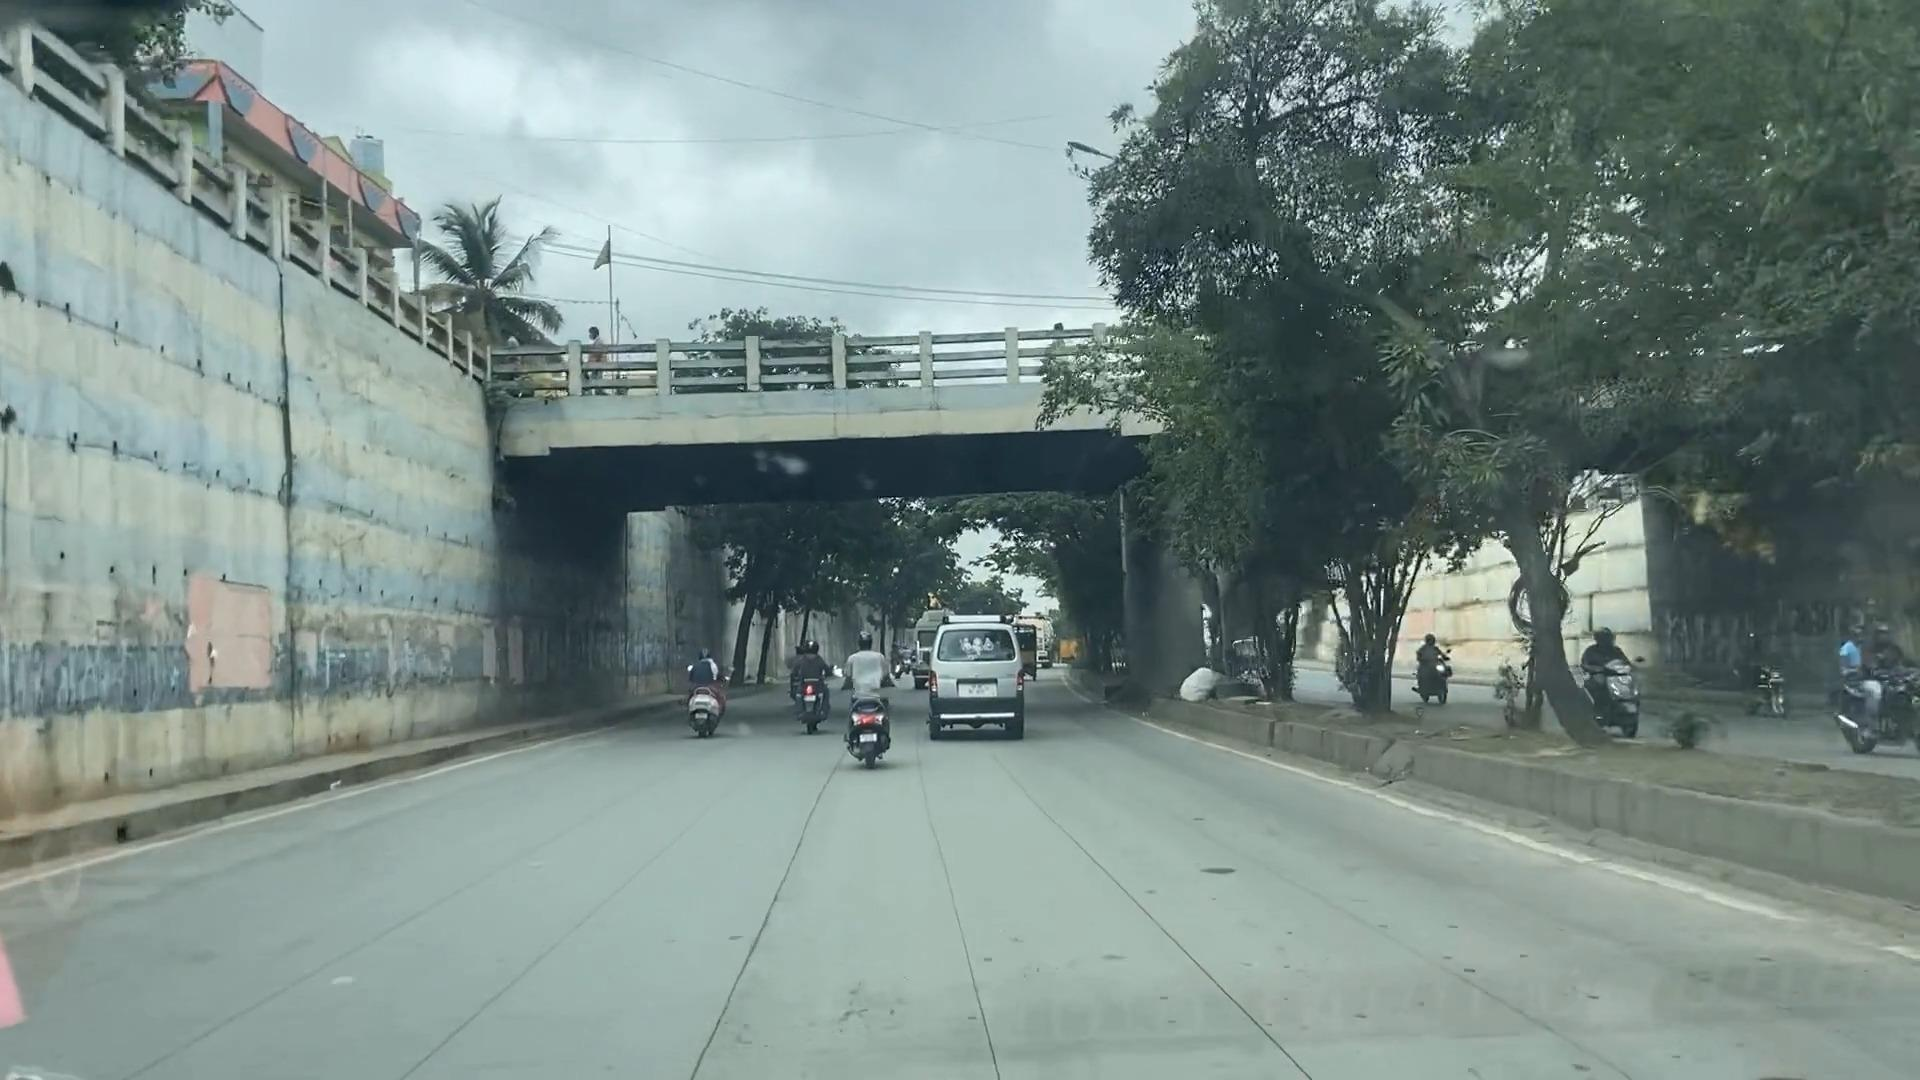LMV: (895, 597, 1034, 761), (837, 622, 907, 778)
